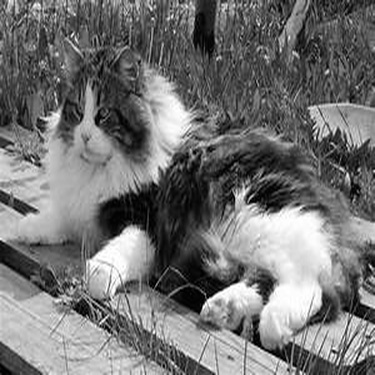cat: (151, 131, 372, 352), (23, 29, 196, 304)
